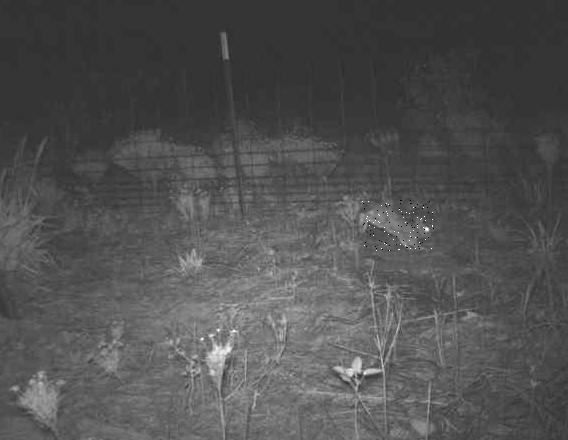Rabbit: (361, 200, 433, 251)
